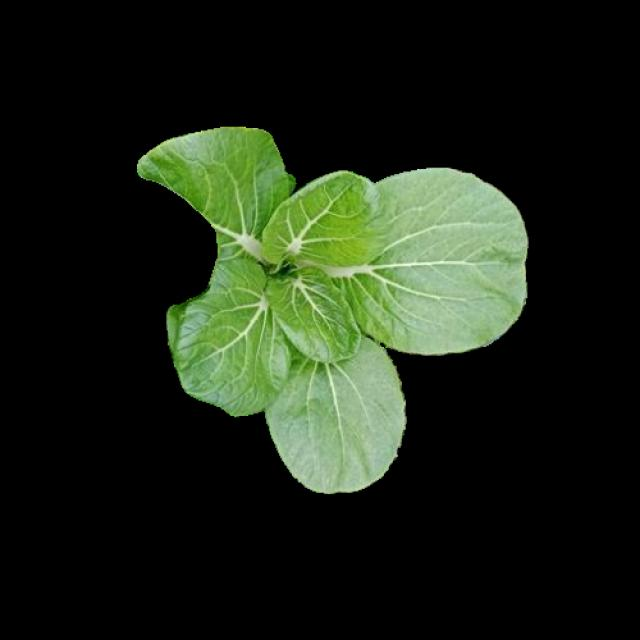healthy: (138, 145, 529, 498)
mature: (134, 132, 525, 486)
